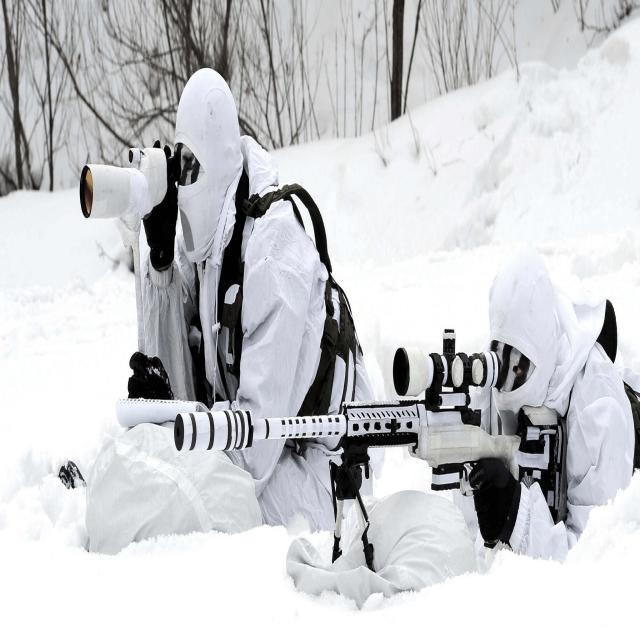human: (81, 69, 344, 531), (459, 255, 640, 566)
